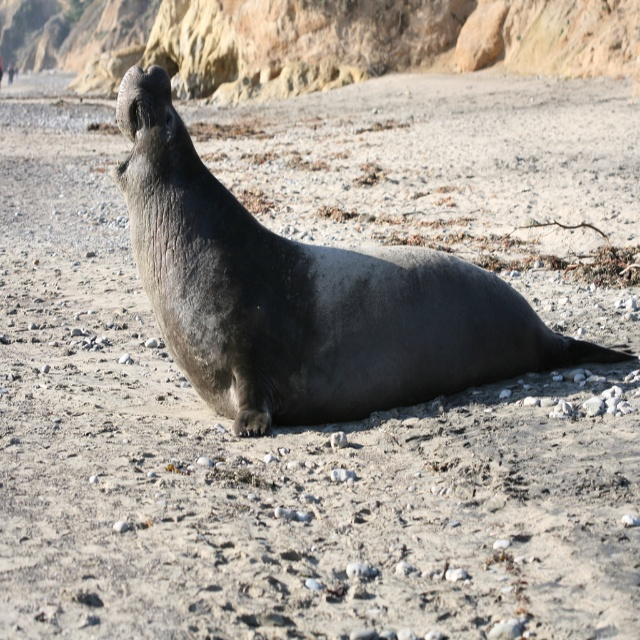Harbor seal: (106, 59, 631, 432)
